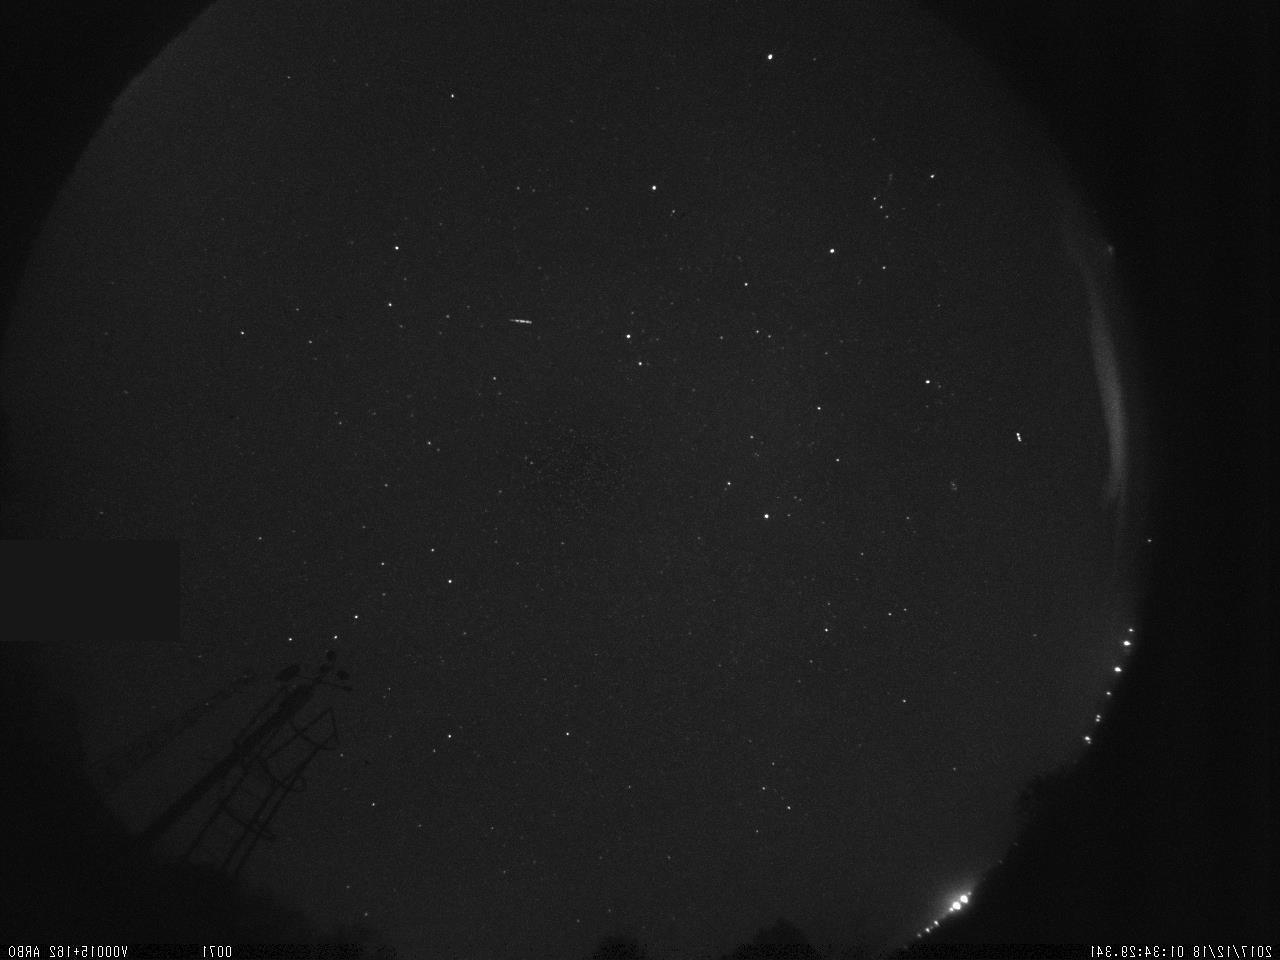meteor: (503, 308, 544, 336)
